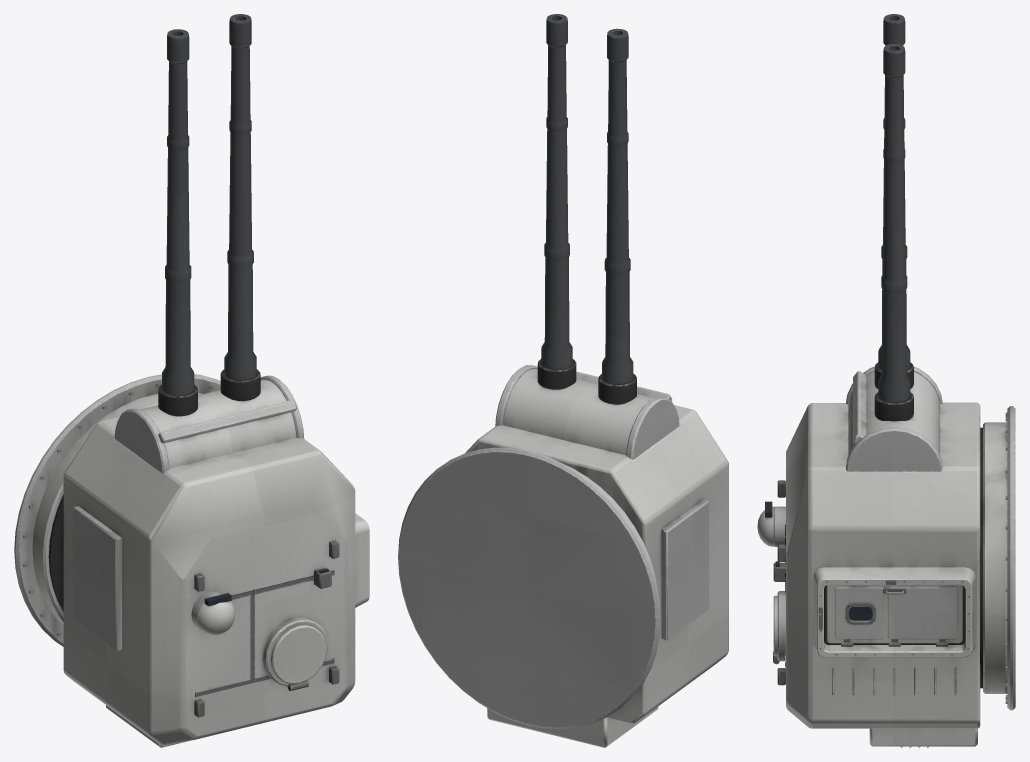
File: turret-S.glb
3 renders of one model, left to right at view 1: azimuth 30°, elevation 25°; view 2: azimuth 150°, elevation 25°; view 3: azimuth 270°, elevation 25°, orthographic. The views are drawn at different scales.
Visible parts, largest first — view 1: turret-S; view 2: turret-S; view 3: turret-S.
Part boxes in pixels (x1,y1,x2,y2): turret-S: (14, 14, 369, 747); turret-S: (398, 14, 728, 747); turret-S: (757, 14, 1015, 747).
Bounding box in the file's own units: 4.48 × 11.24 × 3.8.
1 material, 1 textured.
